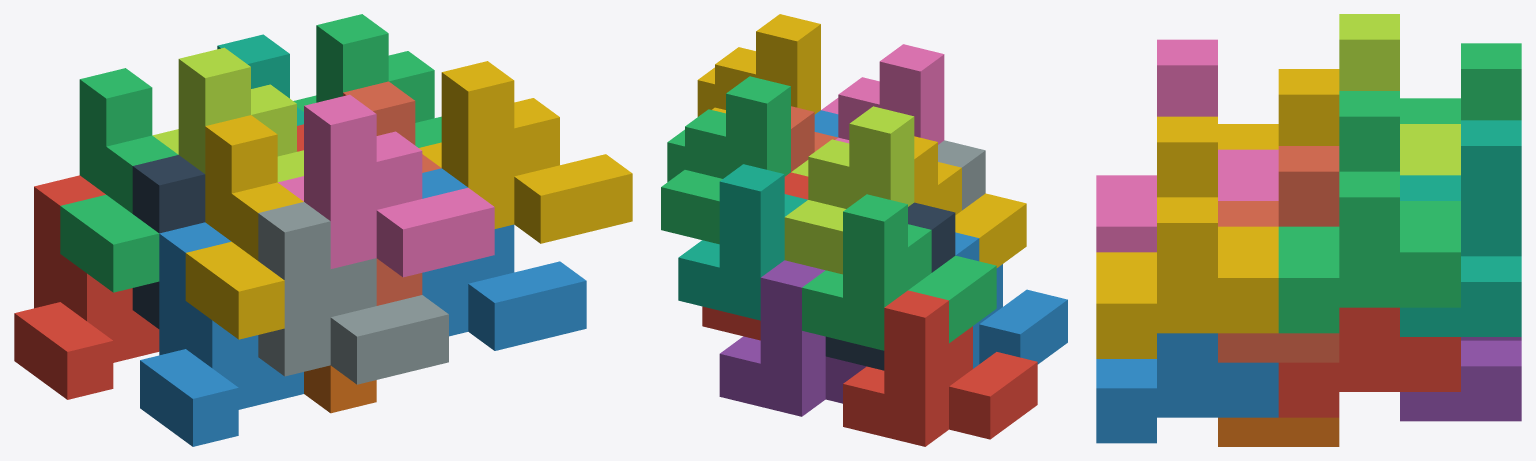
File: tiling.obj
3 renders of one model, left to right at view 1: azimuth 30°, elevation 25°; view 2: azimuth 150°, elevation 25°; view 3: azimuth 270°, elevation 25°, orthographic. The views are drawn at different scales.
Parts seen in each view (by area): view 1: copy_2_domain_4, copy_2_domain_8, copy_2_domain_2, copy_1_domain_2, copy_1_domain_1, copy_1_domain_3, copy_1_domain_4, copy_2_domain_6, copy_2_domain_3, copy_2_domain_7, copy_2_domain_1, copy_1_domain_8 (+2 smaller); view 2: copy_1_domain_1, copy_1_domain_3, copy_2_domain_7, copy_2_domain_3, copy_1_domain_5, copy_1_domain_7, copy_2_domain_8, copy_2_domain_4, copy_1_domain_4, copy_1_domain_2, copy_2_domain_1, copy_2_domain_2 (+3 smaller); view 3: copy_2_domain_8, copy_2_domain_7, copy_1_domain_7, copy_2_domain_6, copy_2_domain_4, copy_2_domain_5, copy_1_domain_8, copy_2_domain_3, copy_1_domain_5, copy_1_domain_3, copy_1_domain_4, copy_1_domain_6.
Boxes of the visible parts, x1,y1,x2,y2 form: copy_2_domain_4: (278, 94, 494, 277); copy_2_domain_8: (419, 61, 632, 243); copy_2_domain_2: (258, 202, 448, 384); copy_1_domain_2: (140, 222, 303, 446); copy_1_domain_1: (14, 175, 159, 399); copy_1_domain_3: (60, 68, 178, 292); copy_1_domain_4: (185, 115, 303, 339); copy_2_domain_6: (422, 168, 586, 350); copy_2_domain_3: (152, 47, 303, 182); copy_2_domain_7: (293, 14, 441, 147); copy_2_domain_1: (132, 155, 205, 328); copy_1_domain_8: (343, 81, 441, 305); copy_1_domain_1: (843, 290, 1037, 446); copy_1_domain_3: (802, 194, 996, 350); copy_2_domain_7: (661, 76, 790, 244); copy_2_domain_3: (784, 106, 914, 274); copy_1_domain_5: (719, 260, 866, 416); copy_1_domain_7: (678, 164, 807, 320); copy_2_domain_8: (697, 14, 820, 116); copy_2_domain_4: (821, 44, 944, 144); copy_1_domain_4: (914, 136, 1026, 267); copy_1_domain_2: (955, 232, 1067, 368); copy_2_domain_1: (825, 202, 955, 370); copy_2_domain_2: (938, 140, 985, 210); copy_2_domain_8: (1096, 116, 1278, 358); copy_2_domain_7: (1278, 91, 1460, 333); copy_1_domain_7: (1400, 120, 1521, 336); copy_2_domain_6: (1096, 333, 1278, 443); copy_2_domain_4: (1096, 39, 1278, 252); copy_2_domain_5: (1278, 307, 1460, 417); copy_1_domain_8: (1218, 146, 1339, 362); copy_2_domain_3: (1339, 14, 1460, 175); copy_1_domain_5: (1400, 337, 1521, 421); copy_1_domain_3: (1400, 43, 1521, 123); copy_1_domain_4: (1218, 69, 1339, 149); copy_1_domain_6: (1218, 417, 1339, 446).
Bounding box in the file's own units: 10 × 6 × 7.
